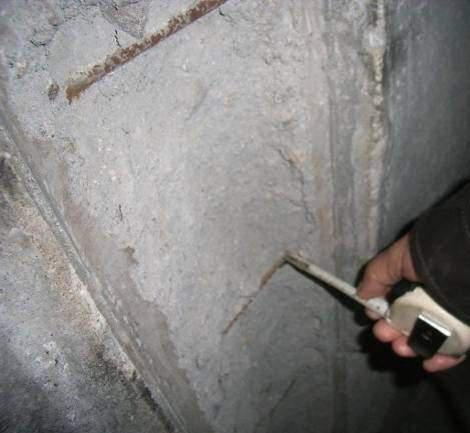Exposed reinforcement: (64, 1, 227, 104), (220, 258, 287, 336), (268, 379, 297, 419)
